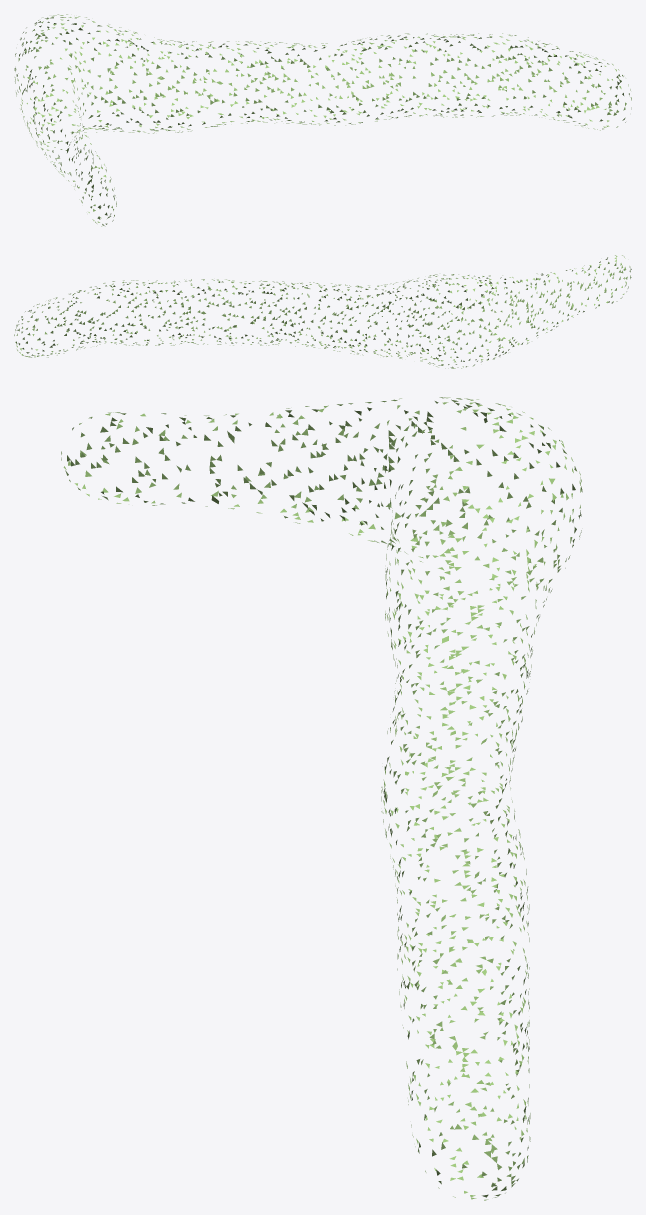
File: morph_013.glb
3 views of the same model, one above another, from view 1: azimuth 30°, elevation 25°; view 2: azimuth 150°, elevation 25°; view 3: azimuth 270°, elevation 25° (orthographic). The views are drawn at different scales.
Bounding box in the file's own units: 121 × 41.41 × 53.17.
